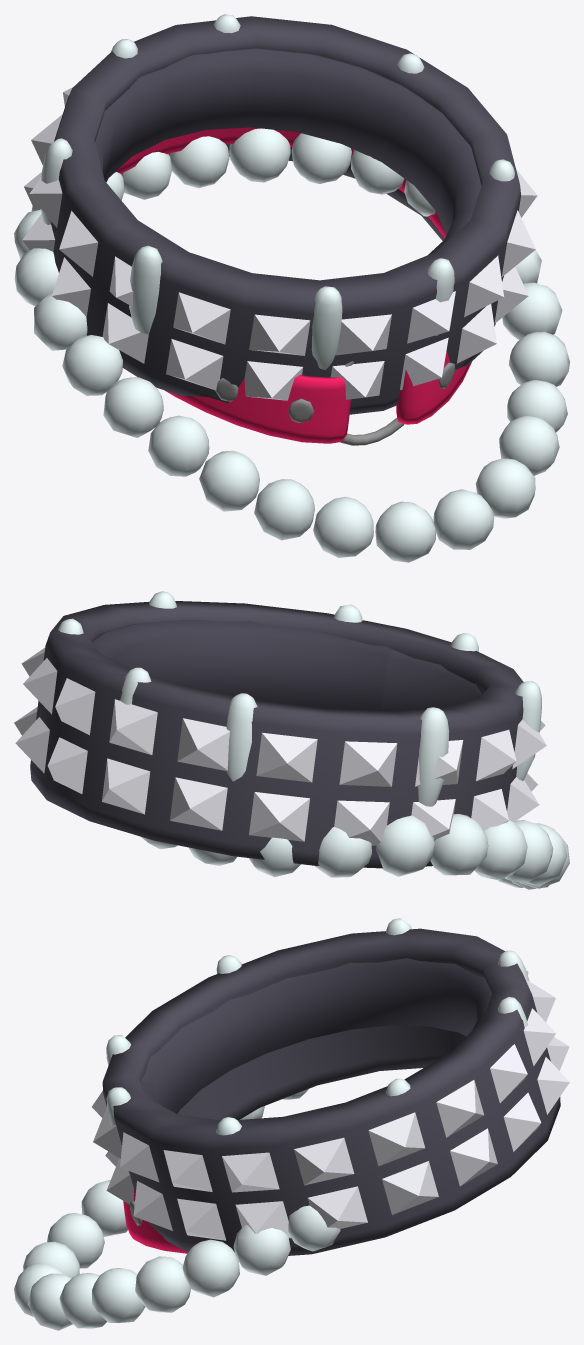
The picture shows the model from 3 angles, top to bottom: view 1: azimuth 30°, elevation 25°; view 2: azimuth 150°, elevation 25°; view 3: azimuth 270°, elevation 25°; orthographic projection. The views are drawn at different scales.
Visible parts, largest first — view 1: xl2, xl4, xl3, xl1; view 2: xl2, xl3, xl4; view 3: xl2, xl3, xl4, xl1.
Part boxes in pixels (x1,y1,x2,y2): xl2: [22, 16, 537, 414]; xl4: [14, 128, 569, 562]; xl3: [40, 14, 514, 369]; xl1: [115, 127, 471, 445]; xl2: [14, 601, 546, 868]; xl3: [58, 591, 541, 806]; xl4: [141, 814, 569, 889]; xl2: [92, 928, 569, 1255]; xl3: [106, 918, 529, 1135]; xl4: [14, 1089, 340, 1330]; xl1: [123, 1189, 188, 1253].
Bounding box in the file's own units: 9.09 × 6.56 × 10.08.
